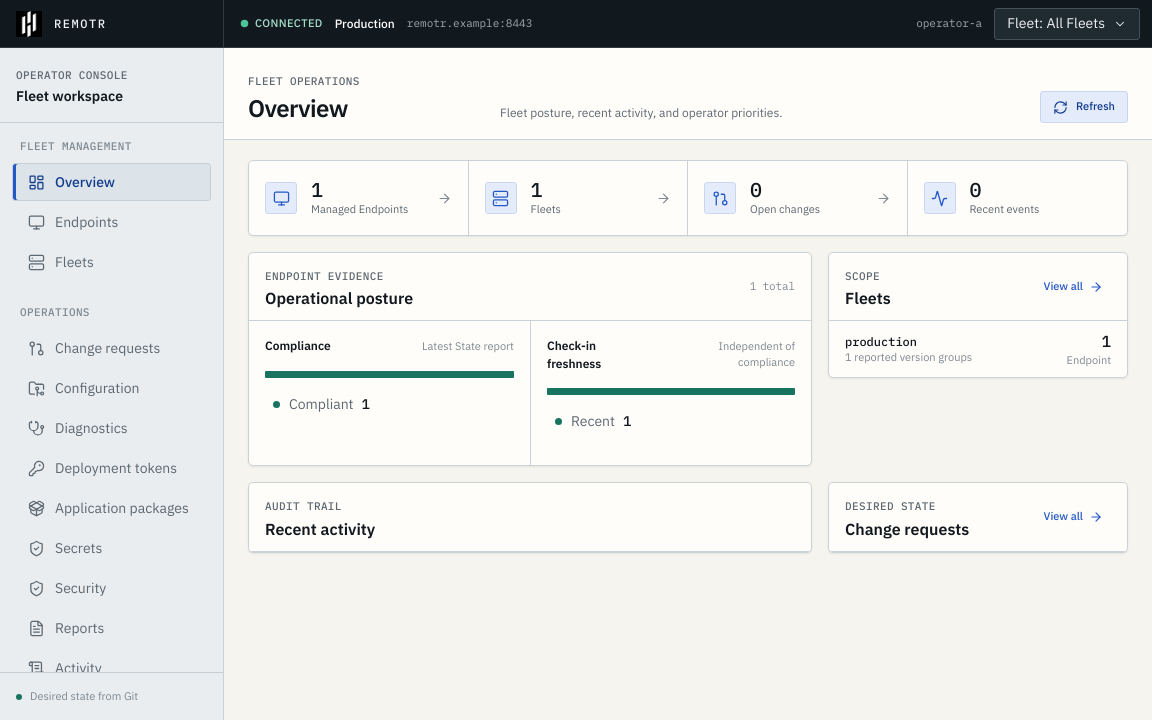
Scenario: Endpoint removal flow › requires exact case-sensitive identity and removes refreshed inventory after success
The image size is (1152, 720).
Click the button "Endpoints". click: (112, 222)
box: x1=12 y1=203 x2=211 y2=241
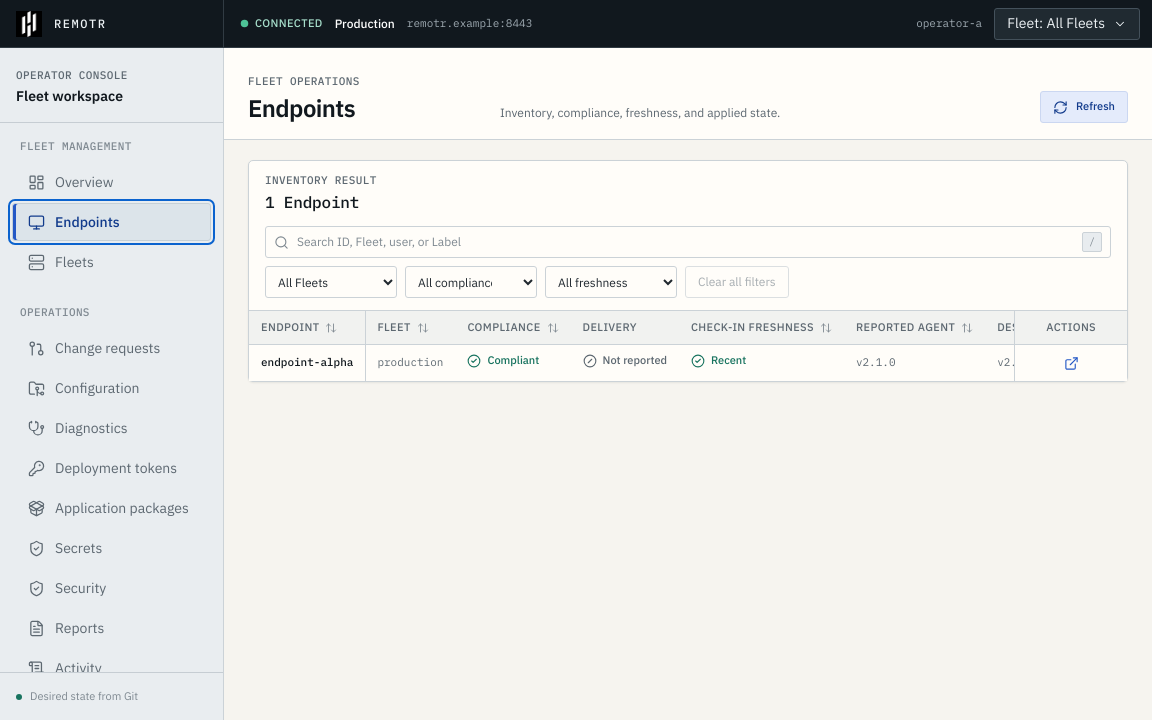
Click the button named "Inspect endpoint-alpha". click: (1071, 363)
box: x1=1057 y1=349 x2=1085 y2=377
(page scrolled)
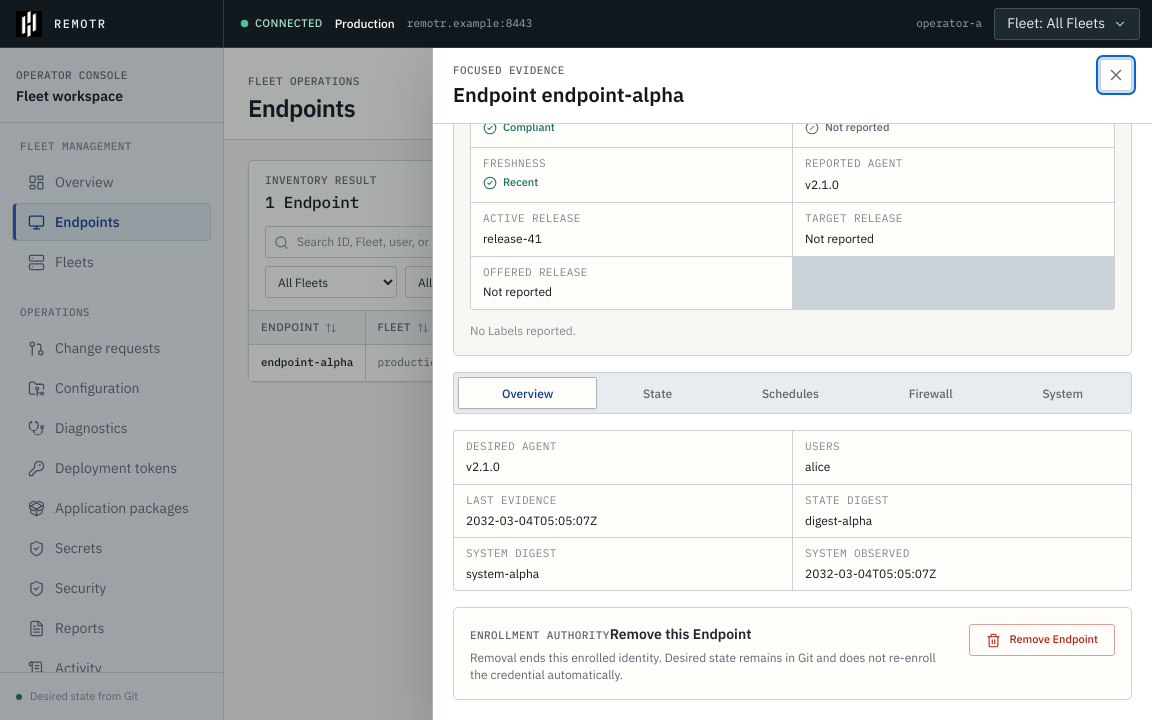
Click the button with aria-label "Remove Endpoint endpoint-alpha". click: (1042, 640)
box: x1=969 y1=624 x2=1115 y2=656
(page scrolled)
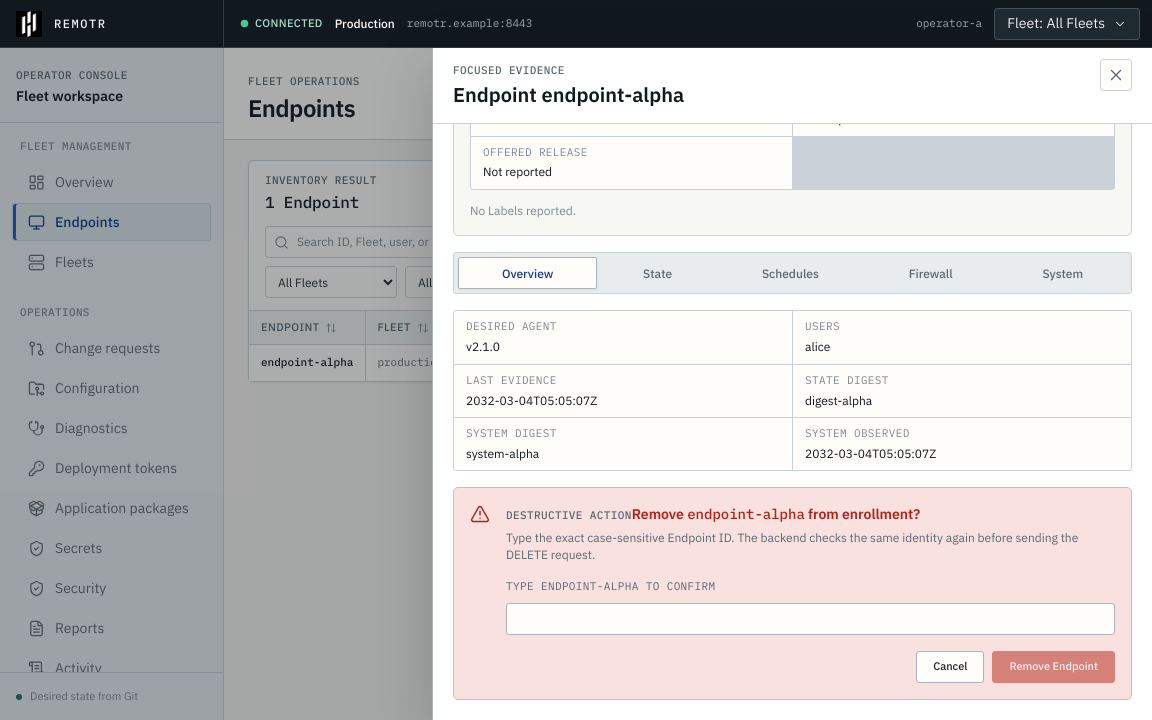
Expected: the button "Remove Endpoint" is disabled, x1=992 y1=651 x2=1115 y2=683
Type "Endpoint-Alpha" into the field labelled "Type endpoint-alpha to confirm". click: (810, 619)
box: x1=506 y1=603 x2=1115 y2=635
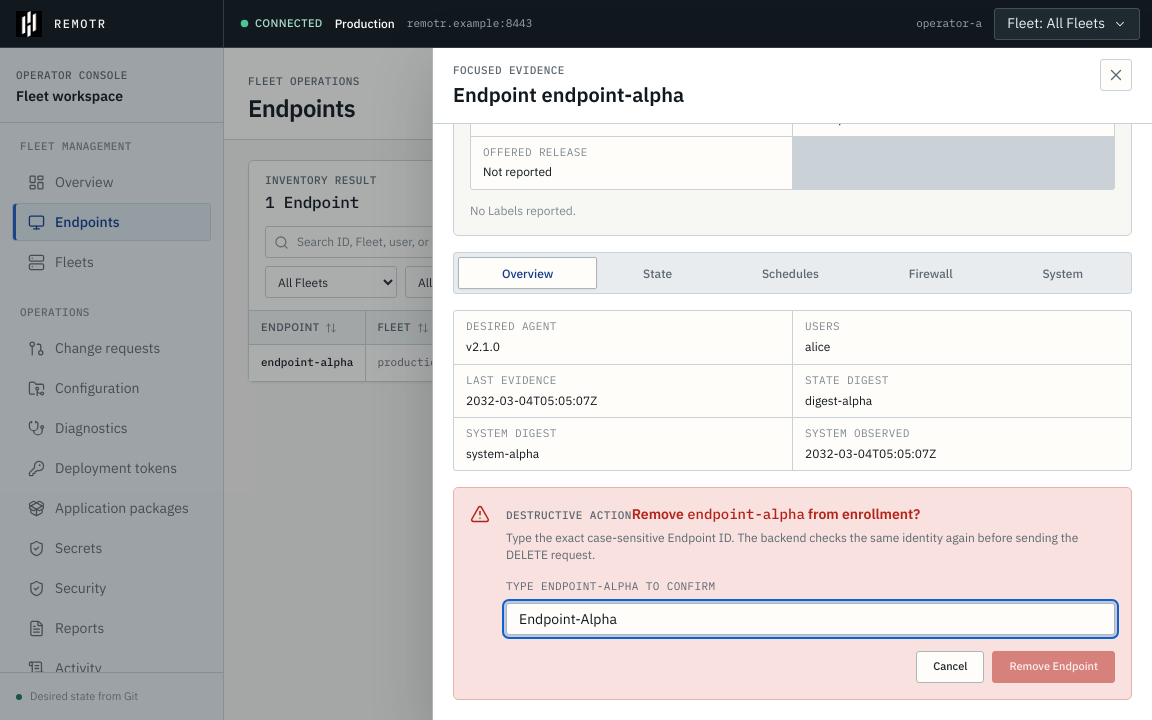
Expected: the button "Remove Endpoint" is disabled, x1=992 y1=651 x2=1115 y2=683
Replace the text in the field labelled "Type endpoint-alpha to confirm" with "endpoint-alpha". click: (810, 619)
box: x1=506 y1=603 x2=1115 y2=635
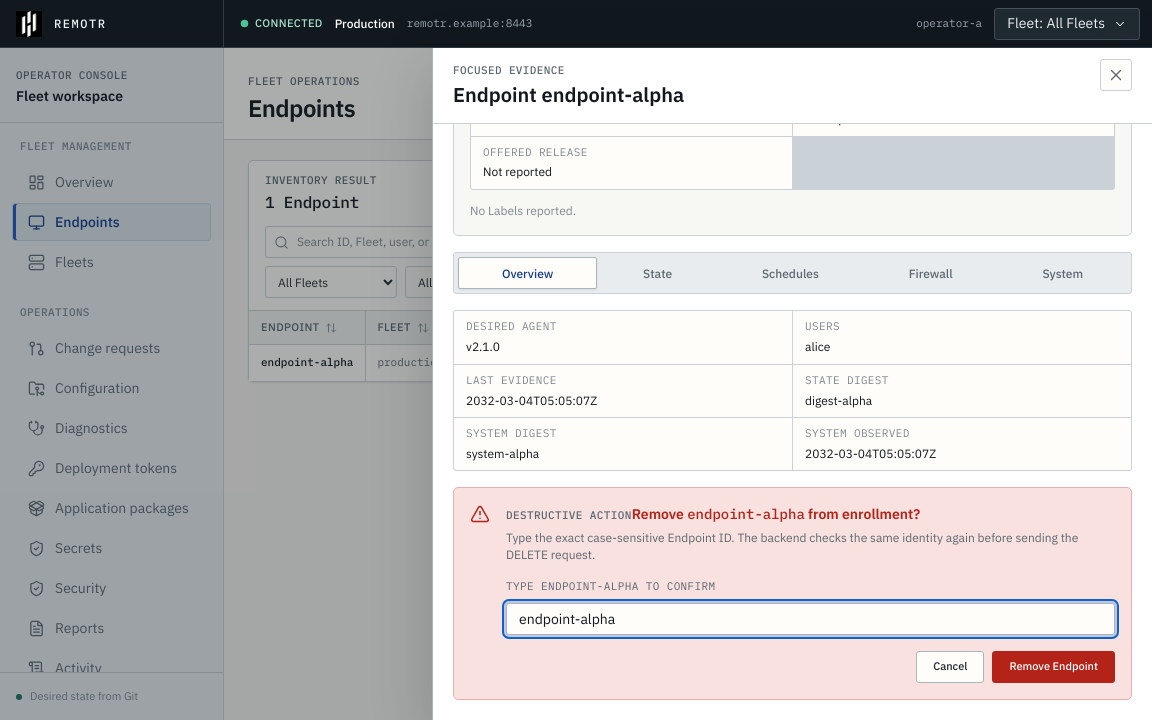
Expected: the button "Remove Endpoint" is enabled
Click the button "Remove Endpoint". click: (1054, 667)
box: x1=992 y1=651 x2=1115 y2=683
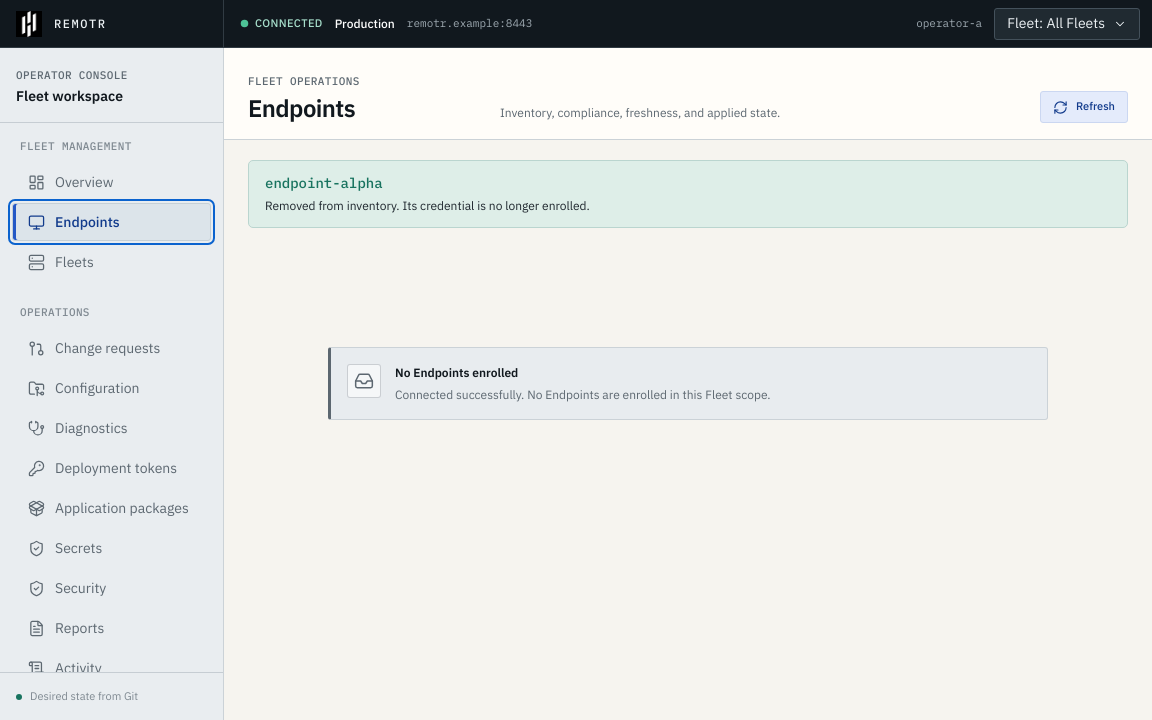
Expected: the heading "Endpoint endpoint-alpha" is gone
Expected: the message named "Endpoint removed" shows "endpoint-alpha", x1=265 y1=174 x2=383 y2=192
Expected: the message named "Endpoint removed" shows "credential is no longer enrolled", x1=265 y1=198 x2=590 y2=213
